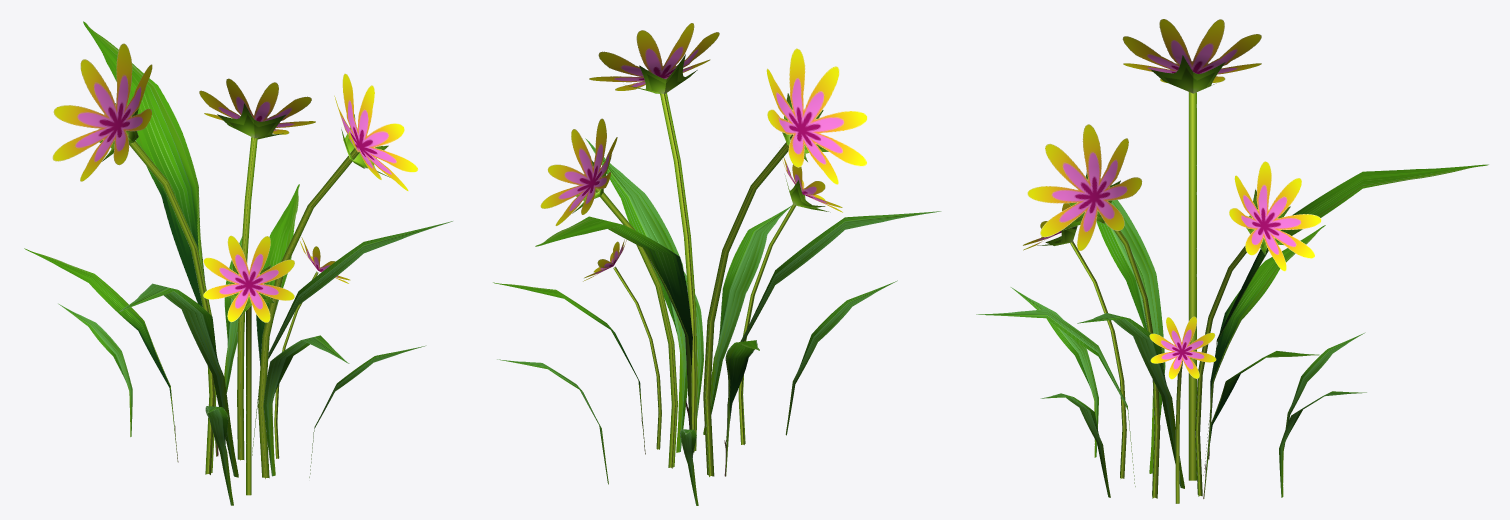
Rendered from Flower_04.FBX.
The picture shows the model from 3 angles, left to right: view 1: azimuth 30°, elevation 25°; view 2: azimuth 150°, elevation 25°; view 3: azimuth 270°, elevation 25°; orthographic projection. The views are drawn at different scales.
Visible parts, largest first — view 1: Flower_04; view 2: Flower_04; view 3: Flower_04.
Boxes of the visible parts, left/top/right/bottom form: Flower_04: left=24, top=21, right=452, bottom=505; Flower_04: left=493, top=23, right=941, bottom=505; Flower_04: left=976, top=19, right=1488, bottom=503.
Bounding box in the file's own units: 45.75 × 52.53 × 56.98.
